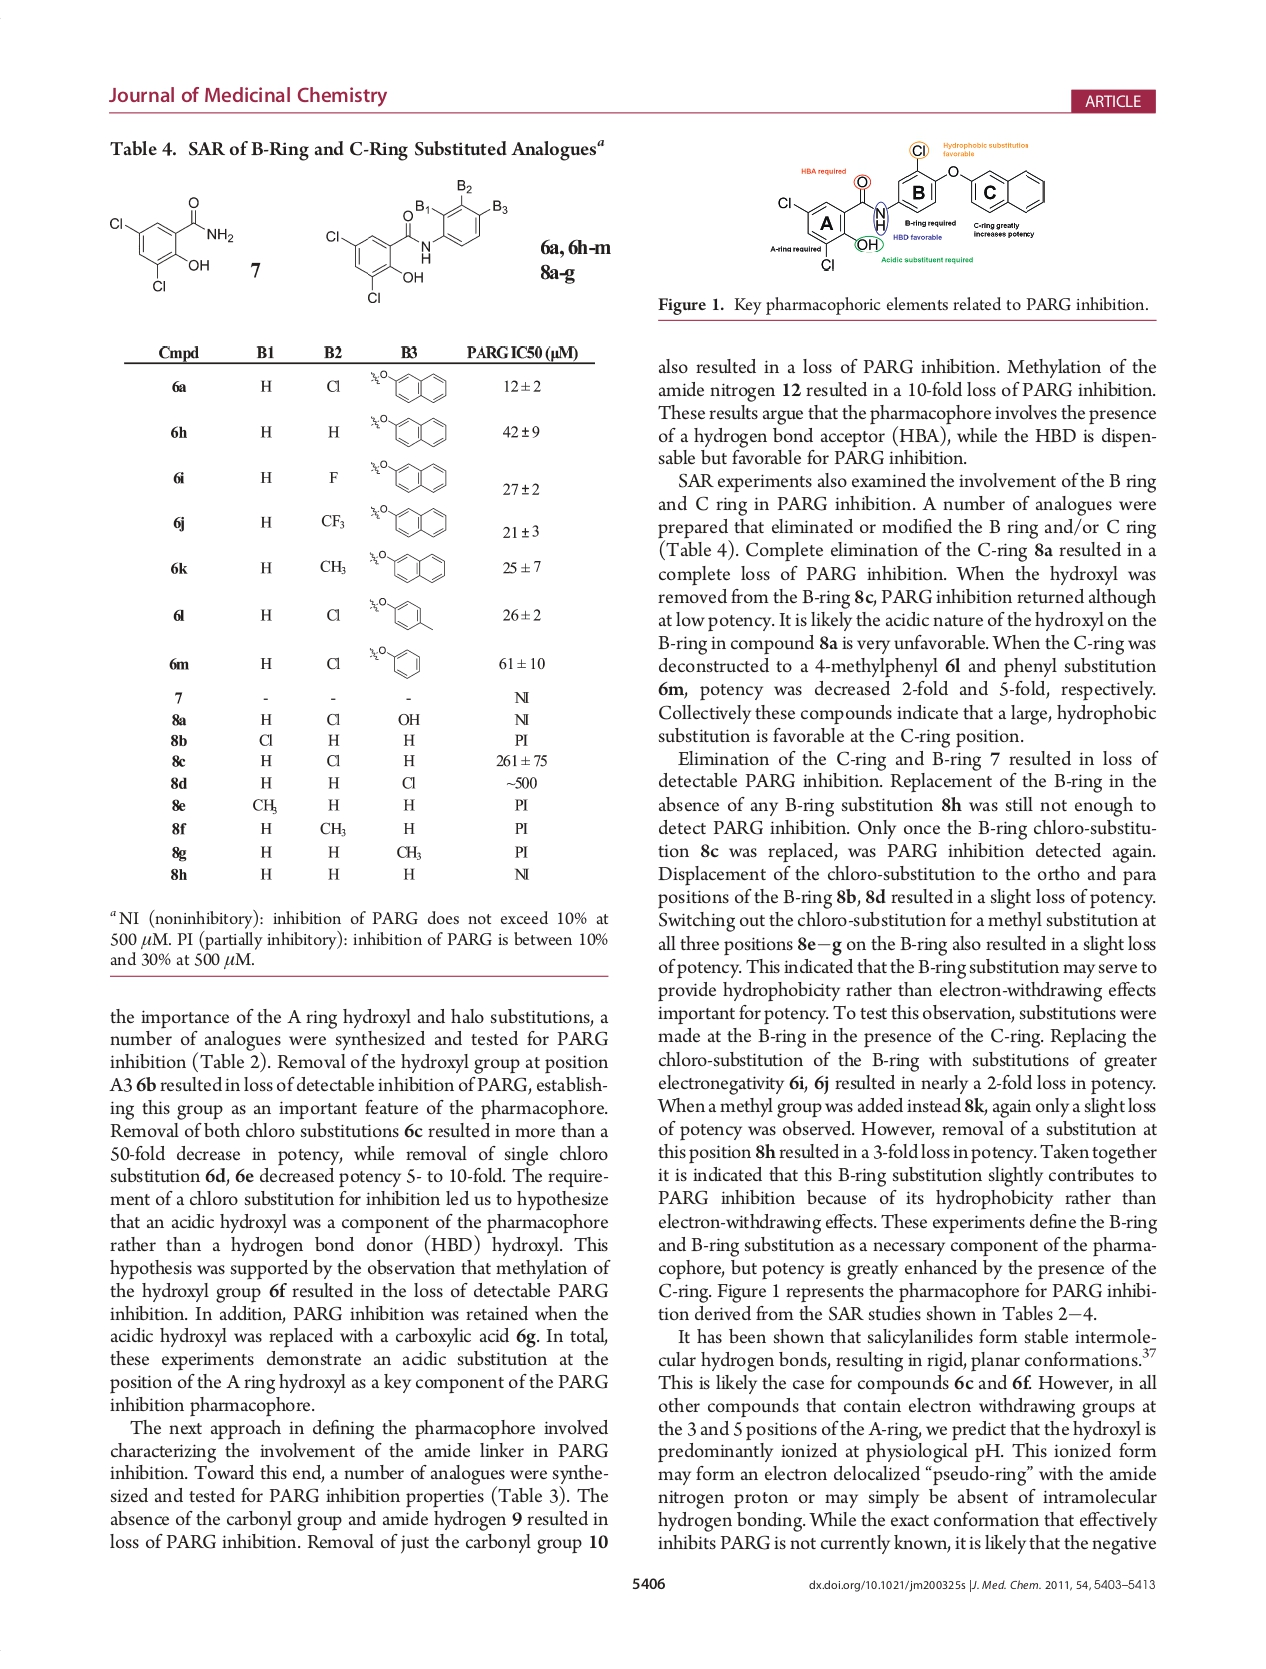exist_molecular: (777, 140, 1051, 273), (324, 173, 509, 306), (108, 192, 235, 293), (364, 407, 449, 449), (367, 456, 449, 496), (370, 499, 449, 539), (367, 547, 447, 586), (367, 368, 449, 404), (367, 593, 436, 636), (366, 638, 423, 681)
